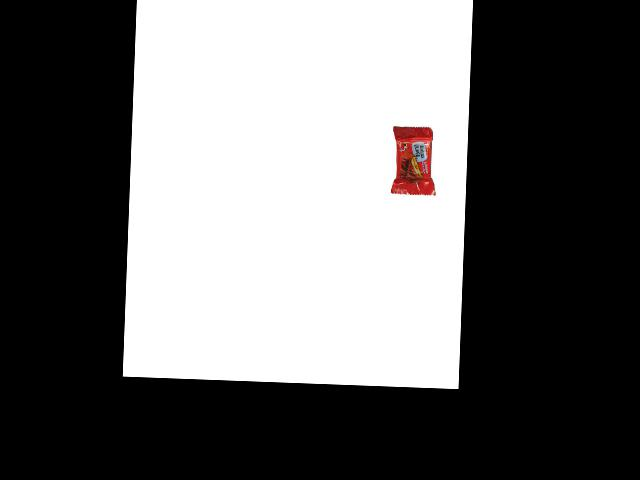chocolate: (391, 119, 442, 196)
